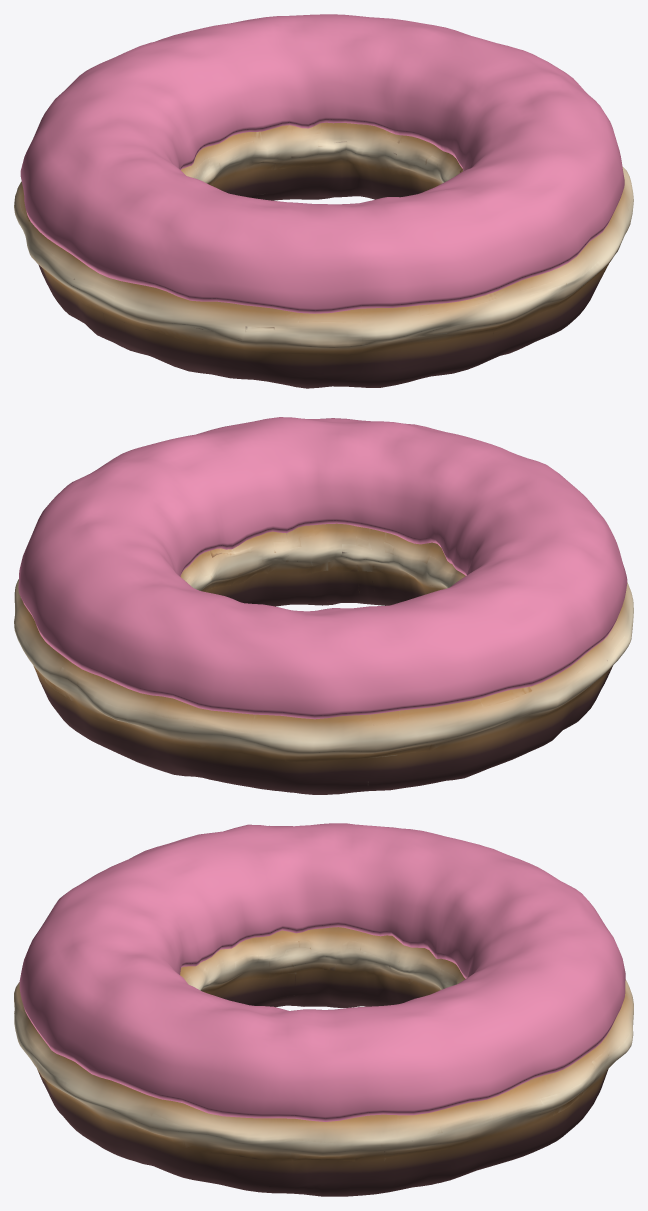
3 views of the same model, one above another, from view 1: azimuth 30°, elevation 25°; view 2: azimuth 150°, elevation 25°; view 3: azimuth 270°, elevation 25° (orthographic).
Visible parts, largest first — view 1: Beta_0000_1, Alpha_0000_0; view 2: Beta_0000_1, Alpha_0000_0; view 3: Beta_0000_1, Alpha_0000_0.
Part boxes in pixels (x1=…): Beta_0000_1: x1=20, y1=14, x2=624, y2=313; Alpha_0000_0: x1=14, y1=122, x2=633, y2=388; Beta_0000_1: x1=18, y1=417, x2=627, y2=719; Alpha_0000_0: x1=14, y1=523, x2=633, y2=794; Beta_0000_1: x1=19, y1=823, x2=625, y2=1121; Alpha_0000_0: x1=14, y1=927, x2=633, y2=1196.
Bounding box in the file's own units: 390 × 119 × 390.
2 materials, 1 textured.
